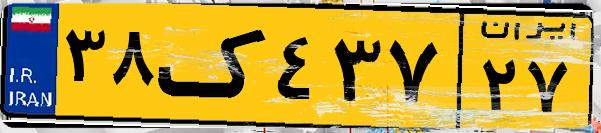2: (475, 38, 525, 113)
3: (330, 28, 385, 110), (57, 26, 110, 100)
4: (270, 28, 330, 110)
7: (385, 28, 445, 110), (525, 38, 570, 115)
8: (110, 28, 158, 98)
ک: (158, 12, 270, 120)
